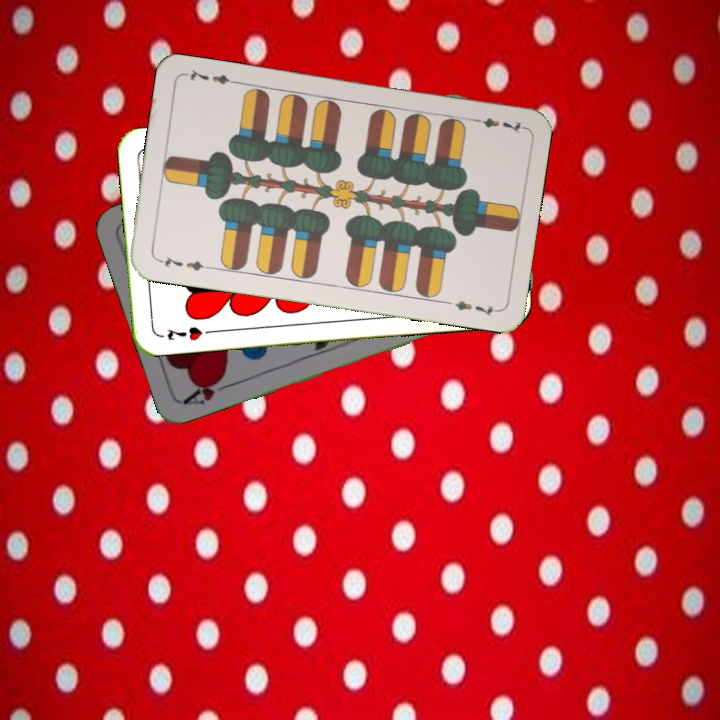E7: (153, 251, 212, 273), (467, 113, 526, 135)
H7: (163, 322, 216, 343)
HA: (180, 371, 237, 408)
